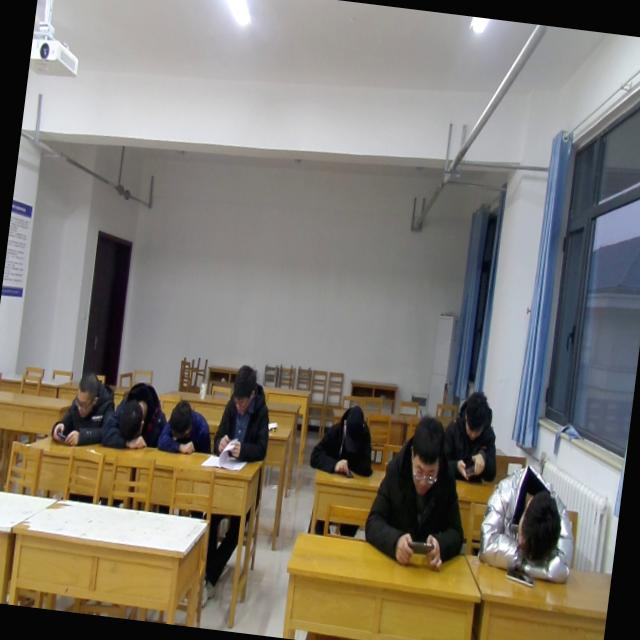bow: (472, 459, 586, 592), (46, 362, 118, 451), (306, 398, 381, 482), (100, 375, 172, 456), (156, 396, 218, 459)
down: (401, 412, 449, 500), (226, 358, 264, 417), (457, 386, 491, 442), (67, 364, 101, 417), (336, 401, 368, 447)
sit: (360, 408, 480, 576), (209, 360, 279, 468), (436, 386, 506, 488)
